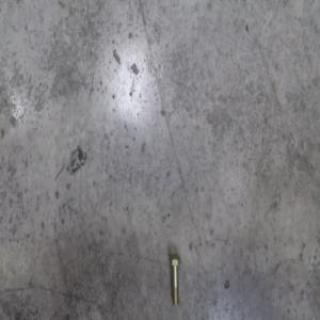Bolttrack_idkeyframe: (168, 251, 180, 305)
